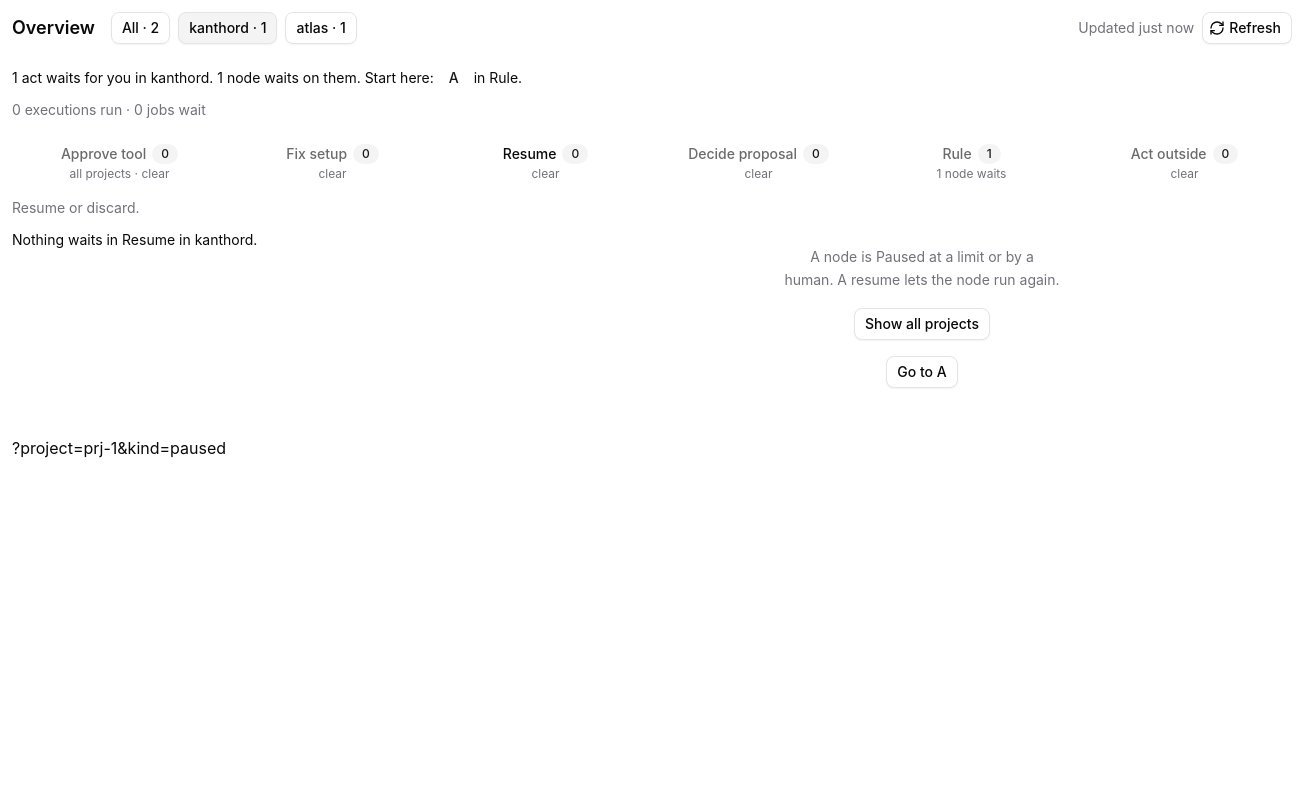
it: OverviewScreen scope › offers Show all projects on a tab that the filter empties
Expected: the text "Nothing waits in Resume in kanthord." is shown, [12, 231, 257, 248]
Click the button "Show all projects" at (922, 324), box [854, 308, 990, 340]
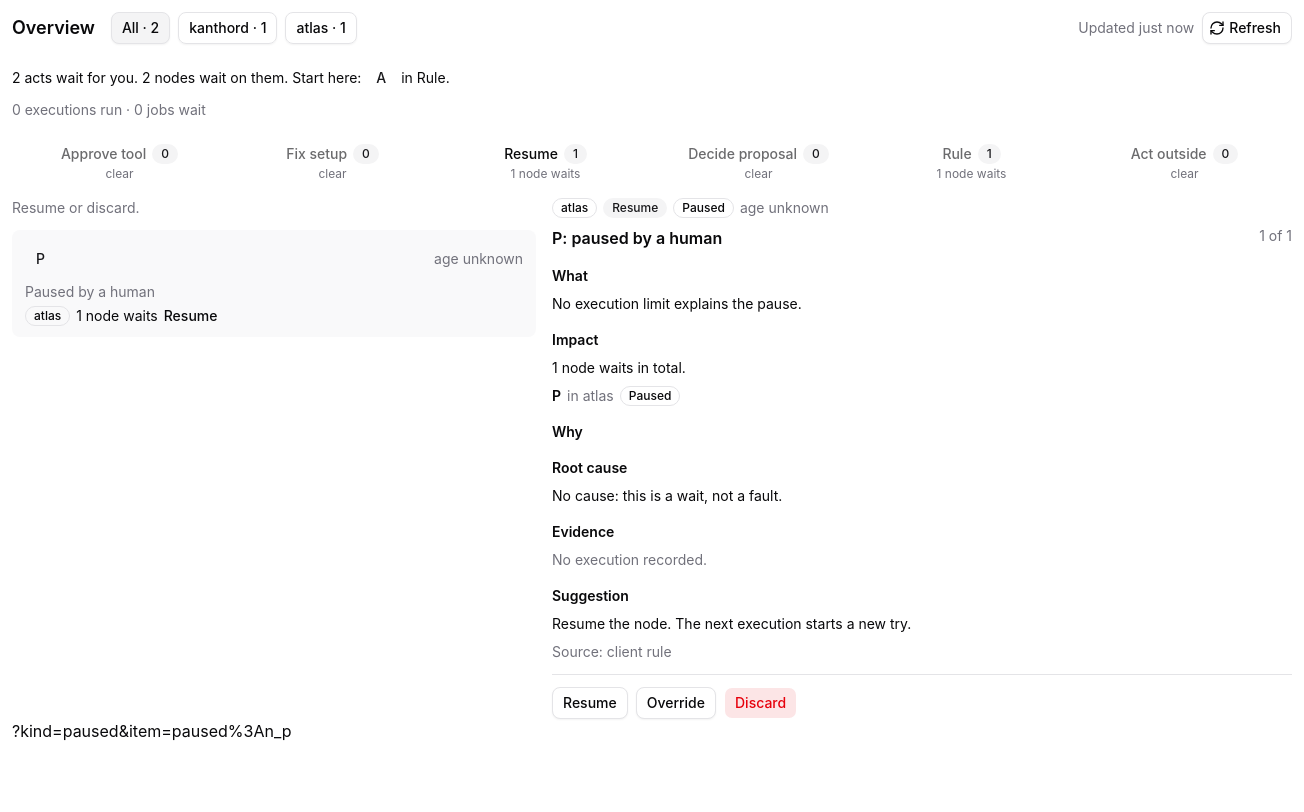
Expected: the button "P" is shown, [25, 241, 56, 277]
